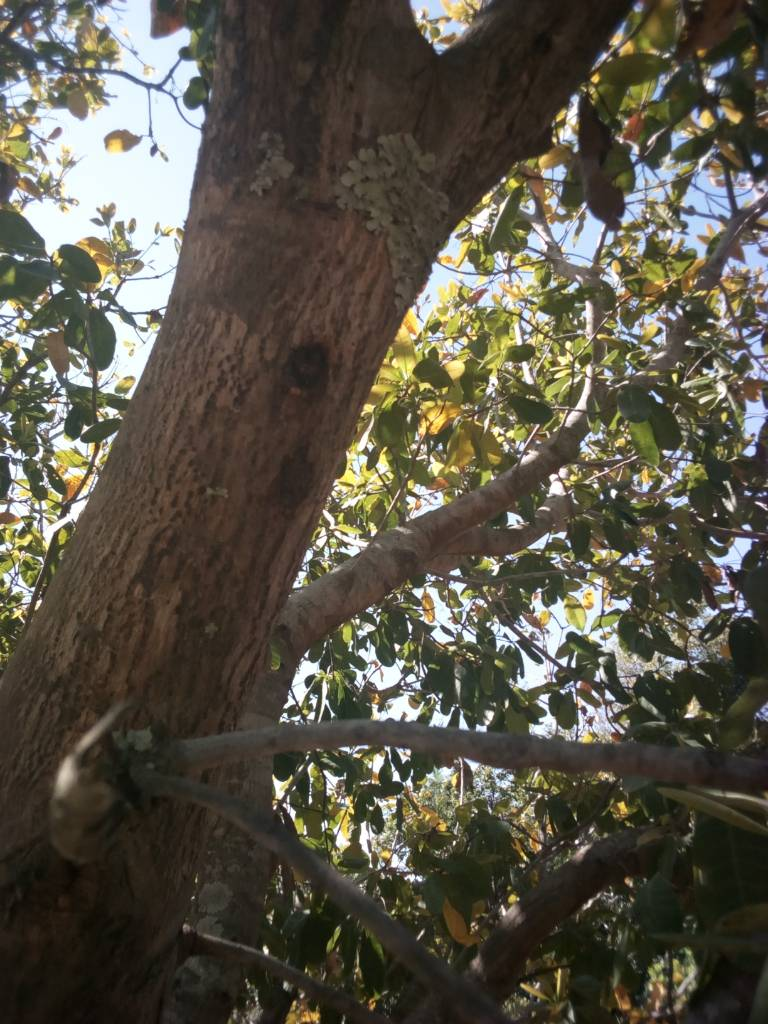Apate terebrans: (258, 332, 358, 416)
